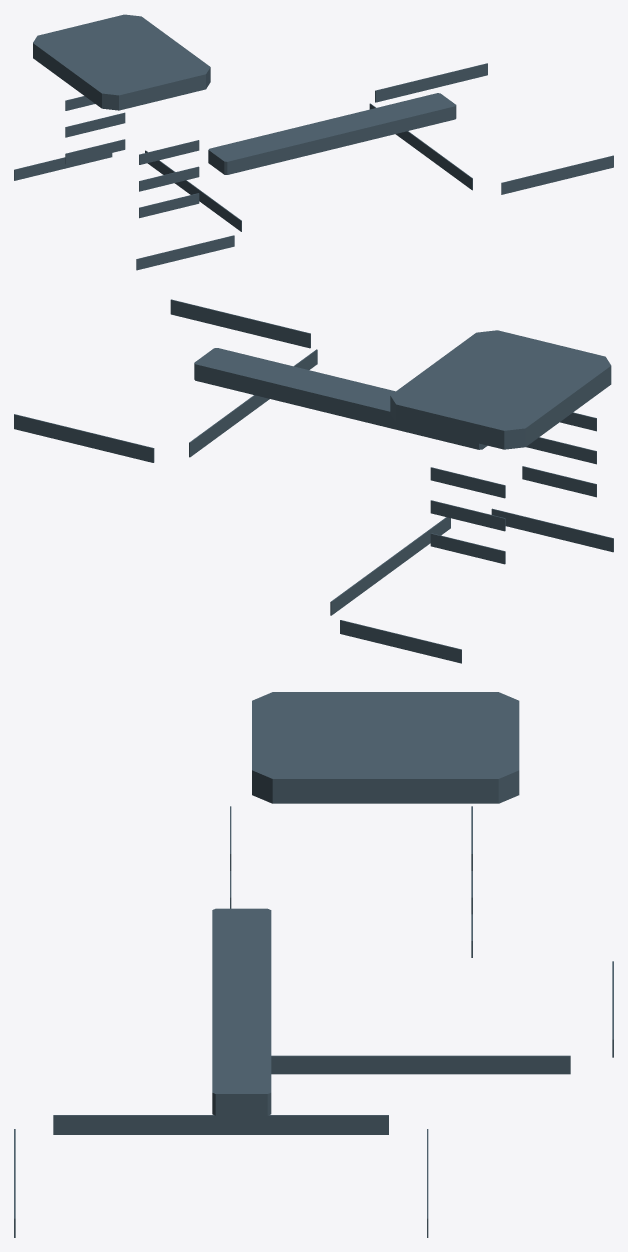
The model's file is AviationDefenseGlazing.gltf.
The picture shows the model from 3 angles, top to bottom: view 1: azimuth 30°, elevation 25°; view 2: azimuth 150°, elevation 25°; view 3: azimuth 270°, elevation 25°; orthographic projection. The views are drawn at different scales.
Visible parts, largest first — view 1: AviationDefenseGlazing; view 2: AviationDefenseGlazing; view 3: AviationDefenseGlazing.
Boxes of the visible parts, x1,y1,x2,y2 form: AviationDefenseGlazing: (14,14,613,270); AviationDefenseGlazing: (14,299,613,663); AviationDefenseGlazing: (14,692,613,1237).
Bounding box in the file's own units: 120 × 44.15 × 87.54.
